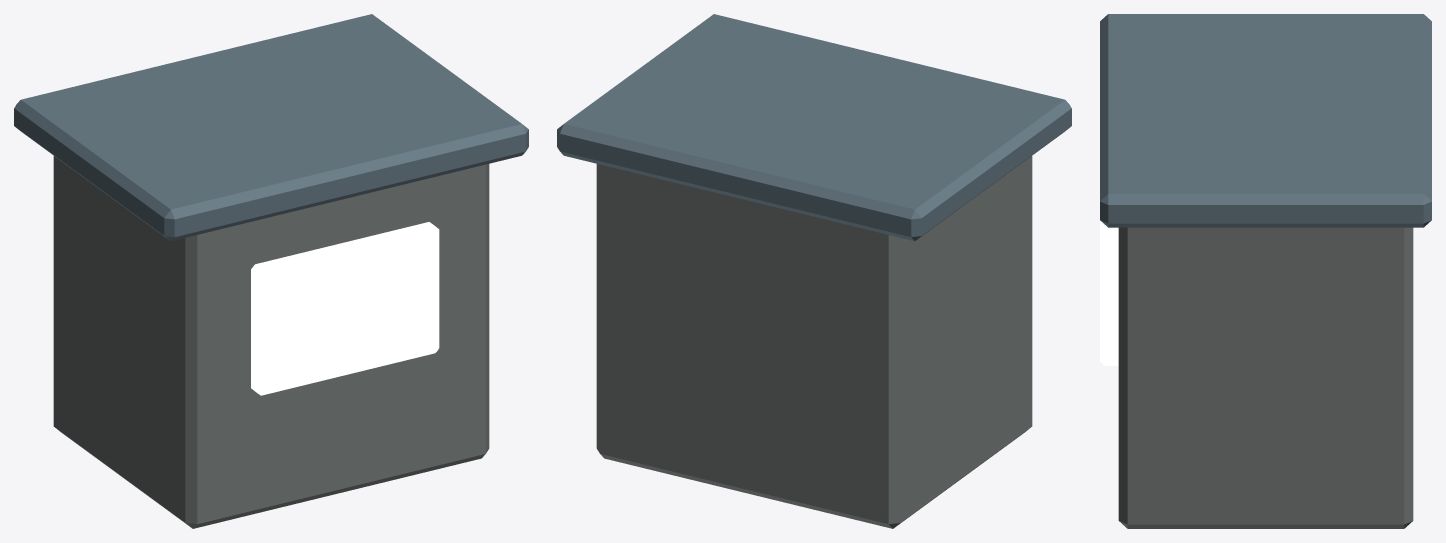
The model's file is objects-forge.lod0.glb.
3 views of the same model, side by side, from view 1: azimuth 30°, elevation 25°; view 2: azimuth 150°, elevation 25°; view 3: azimuth 270°, elevation 25° (orthographic). The views are drawn at different scales.
Parts seen in each view (by area): view 1: objects-forge__body; view 2: objects-forge__body; view 3: objects-forge__body.
Part boxes in pixels (x1,y1,x2,y2): objects-forge__body: [14, 14, 528, 528]; objects-forge__body: [557, 14, 1071, 528]; objects-forge__body: [1100, 14, 1431, 528].
Size of the model in its own units: 1.2 by 1.05 by 0.9.
